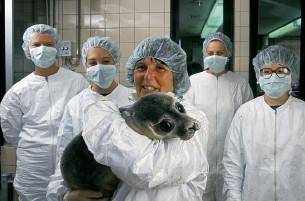NONE: (134, 60, 175, 104)
OK: (258, 63, 292, 97), (84, 55, 117, 88), (29, 38, 59, 68), (206, 48, 229, 73)
